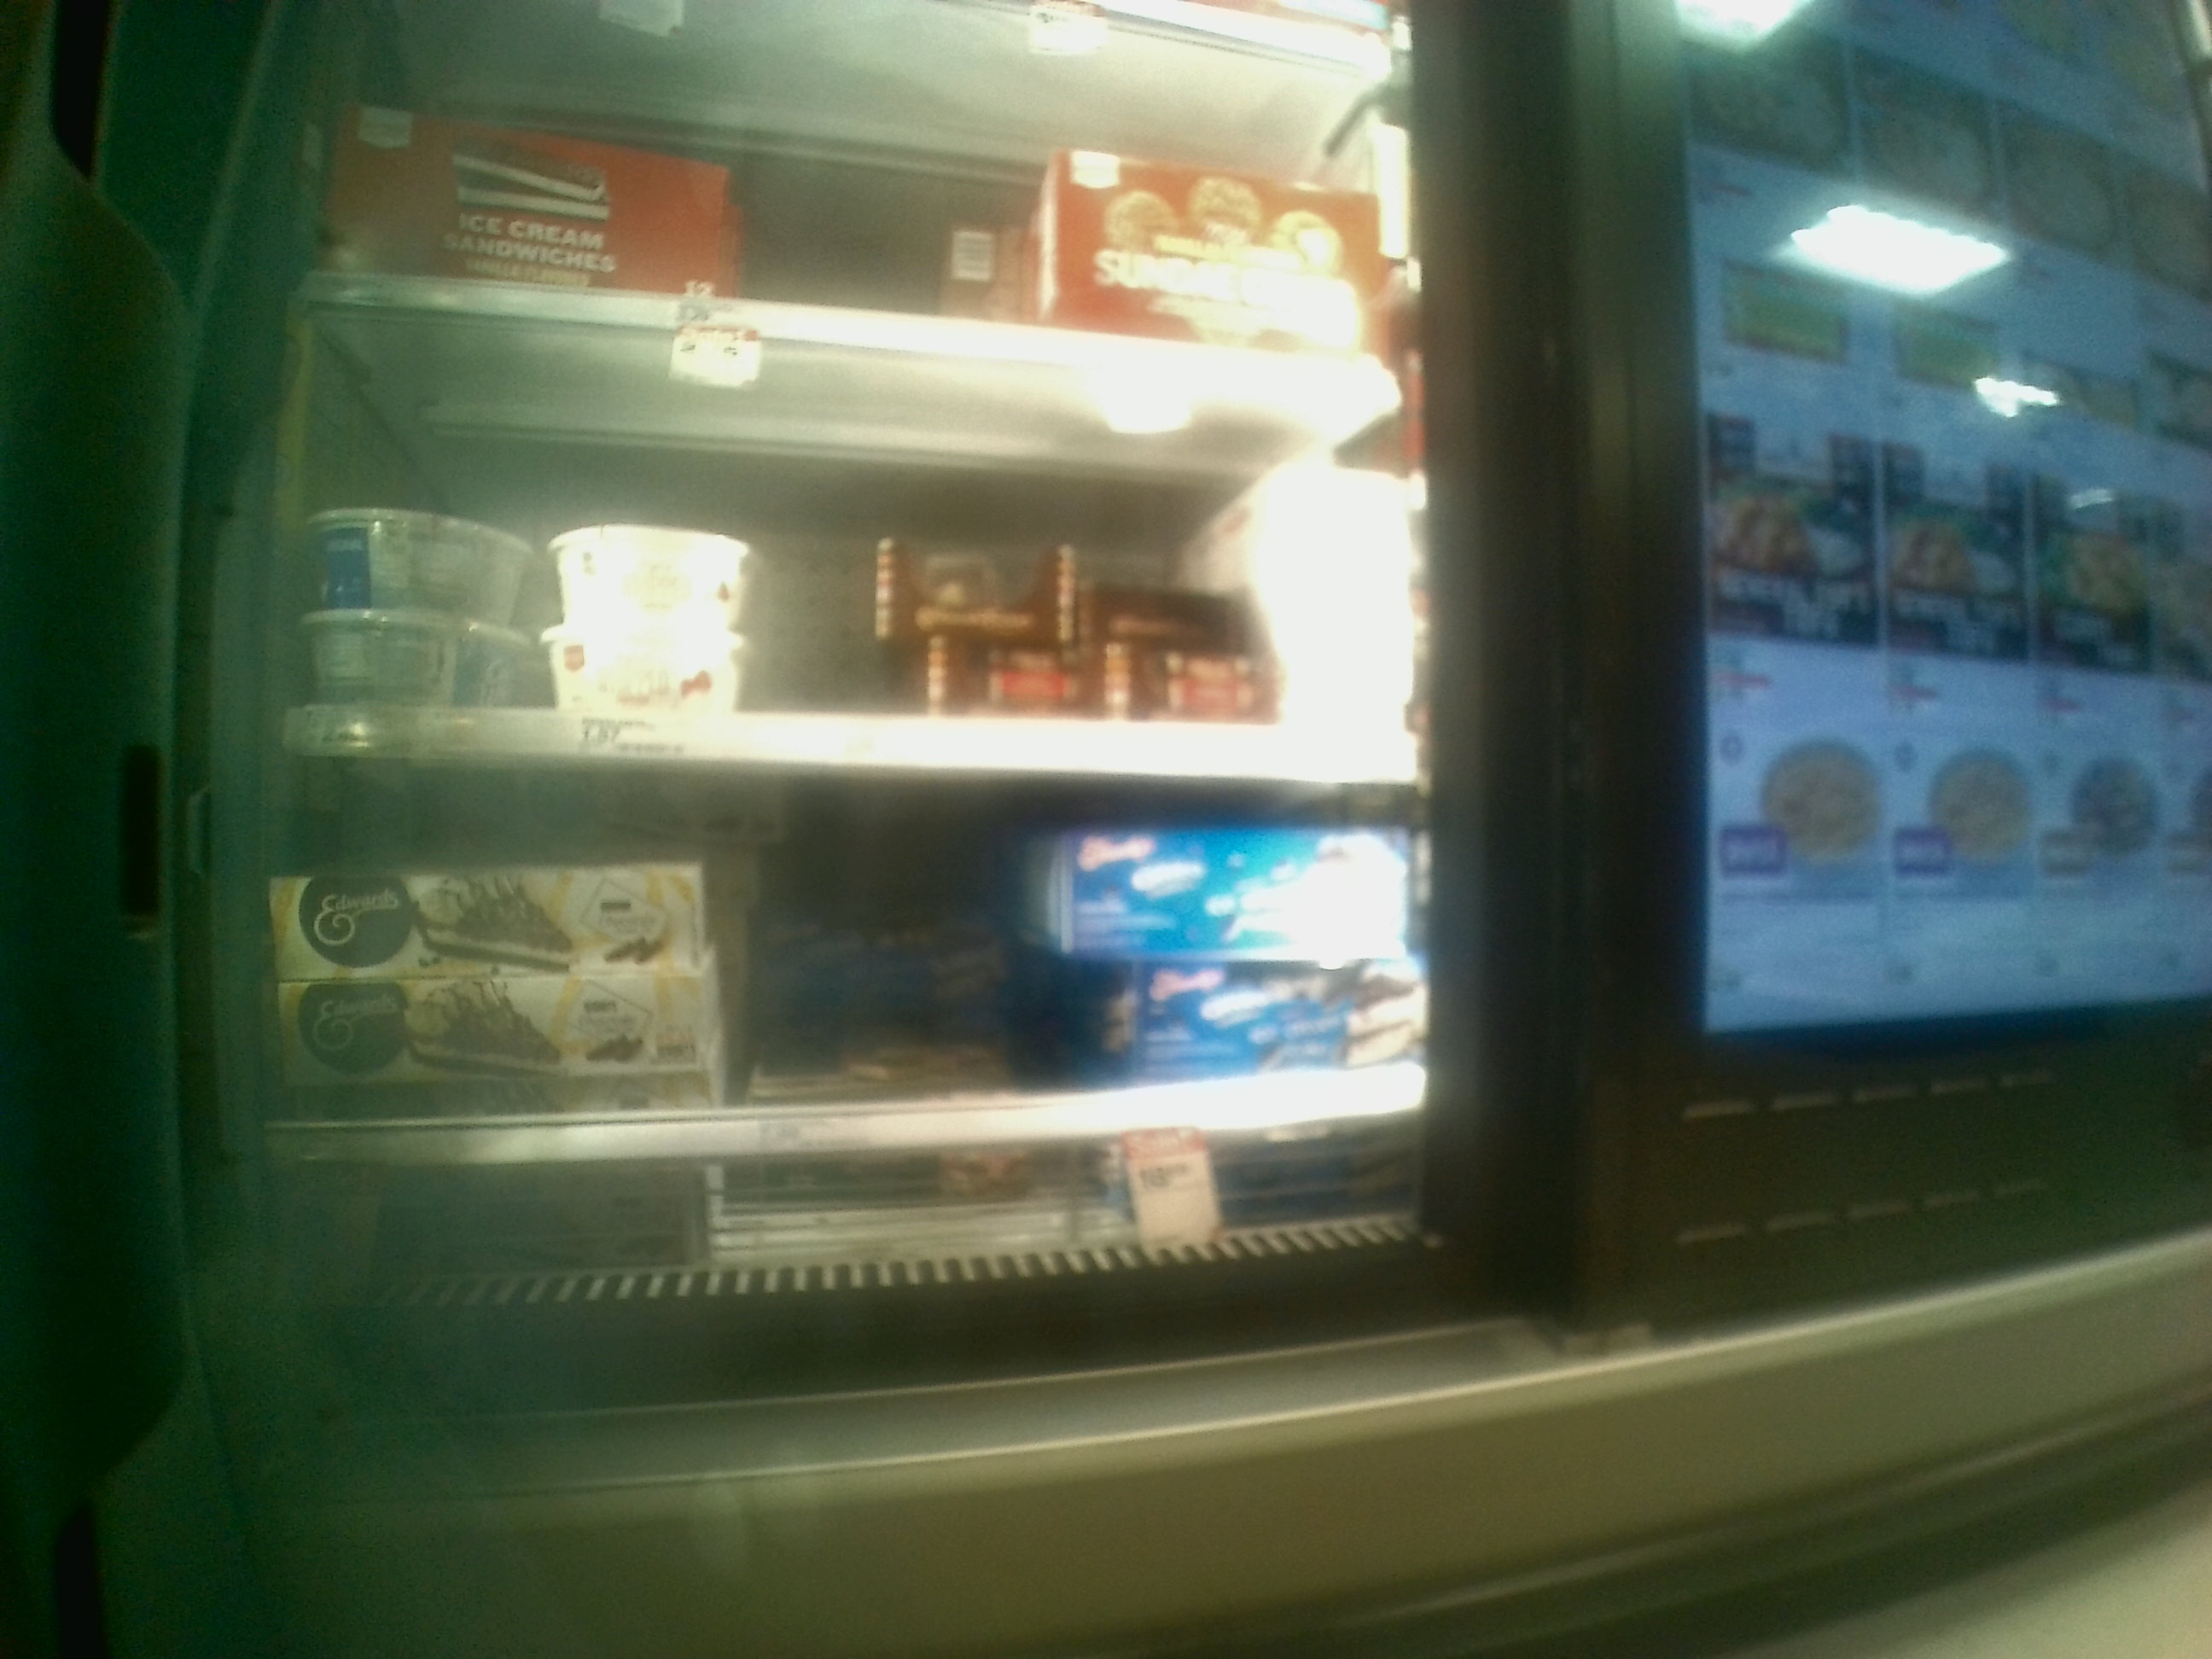frozen-food-shelf: (256, 784, 1425, 1162)
